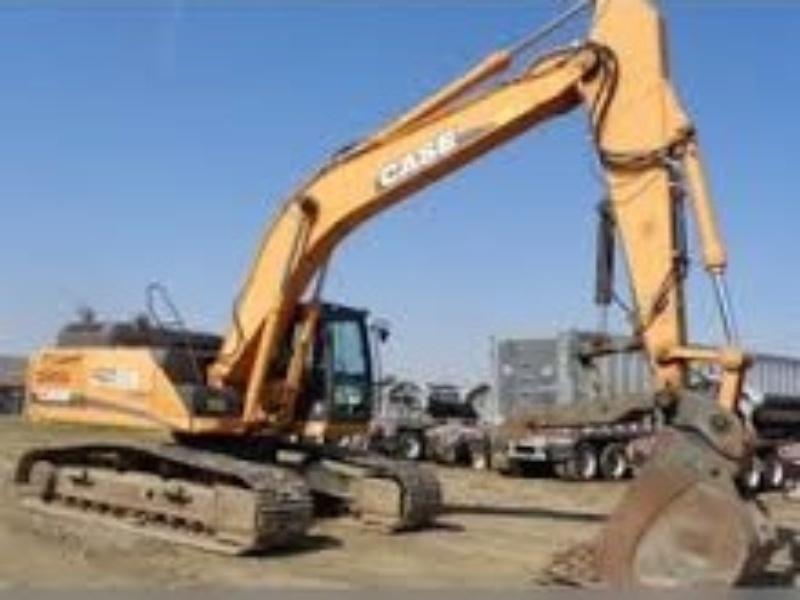wajueji: (12, 113, 558, 580)
